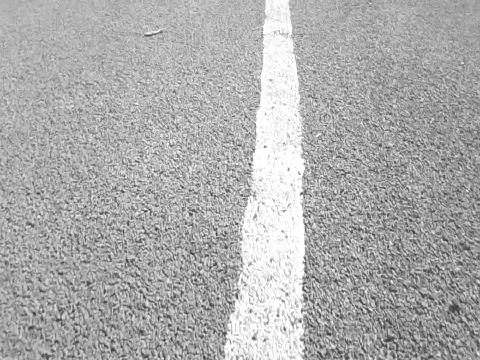Lines: (222, 0, 305, 360)
